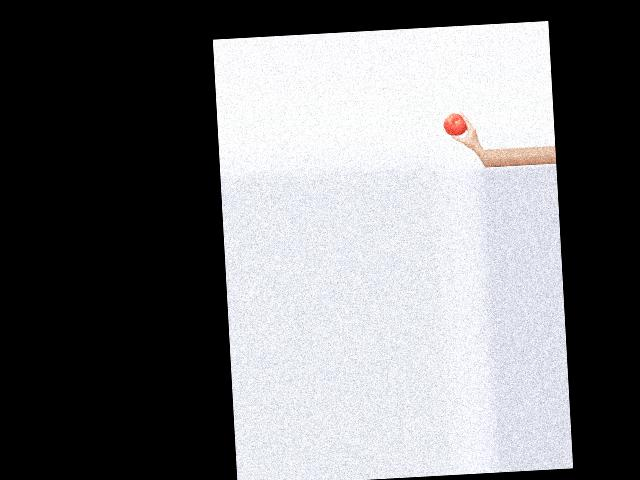tomato: (443, 112, 466, 135)
